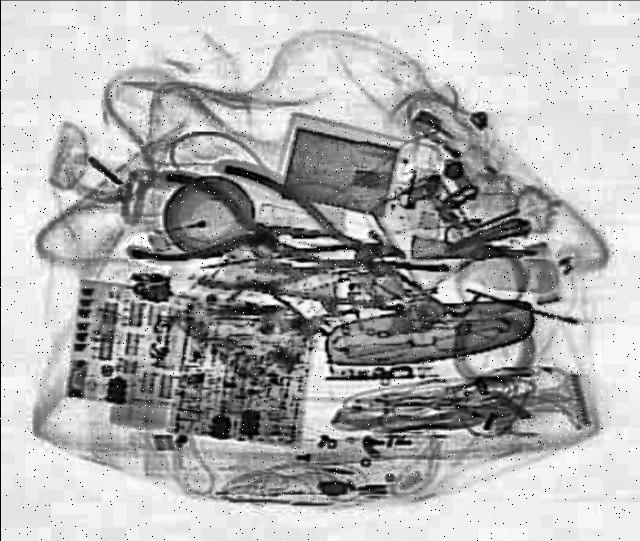Pliers: (186, 162, 420, 316), (124, 166, 334, 291)
